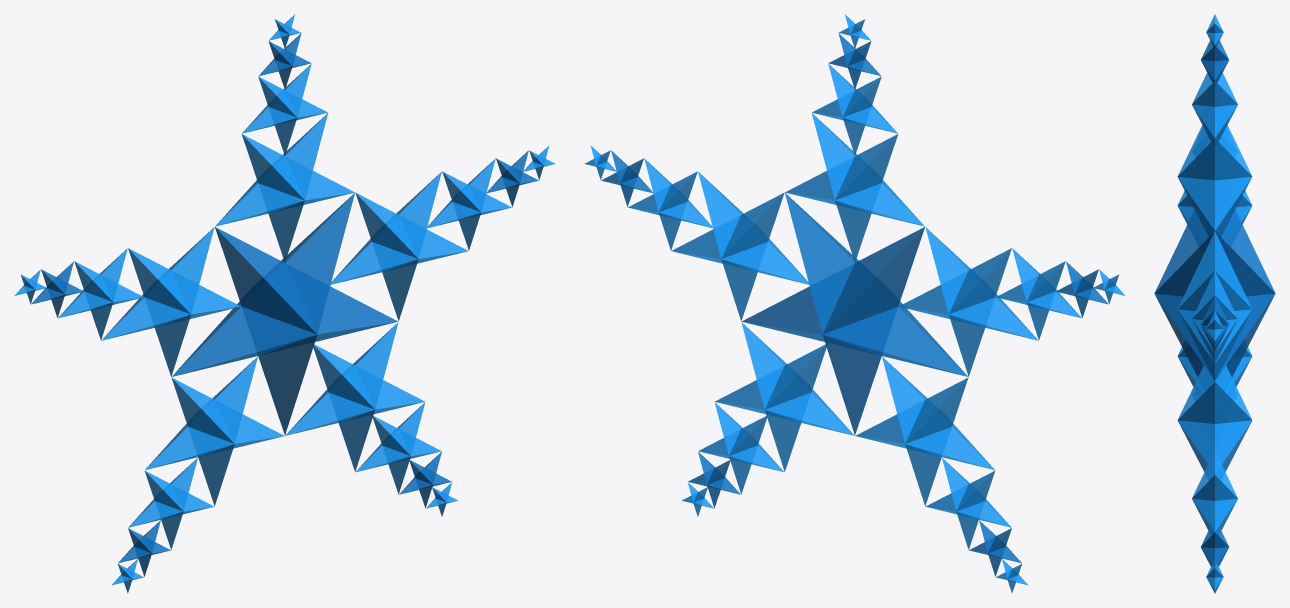
File: fractalpentagrammicdipyramidA4.glb
3 renders of one model, left to right at view 1: azimuth 30°, elevation 25°; view 2: azimuth 150°, elevation 25°; view 3: azimuth 270°, elevation 25°, orthographic. The views are drawn at different scales.
Size of the model in its own units: 11.56 by 11 by 2.4.
